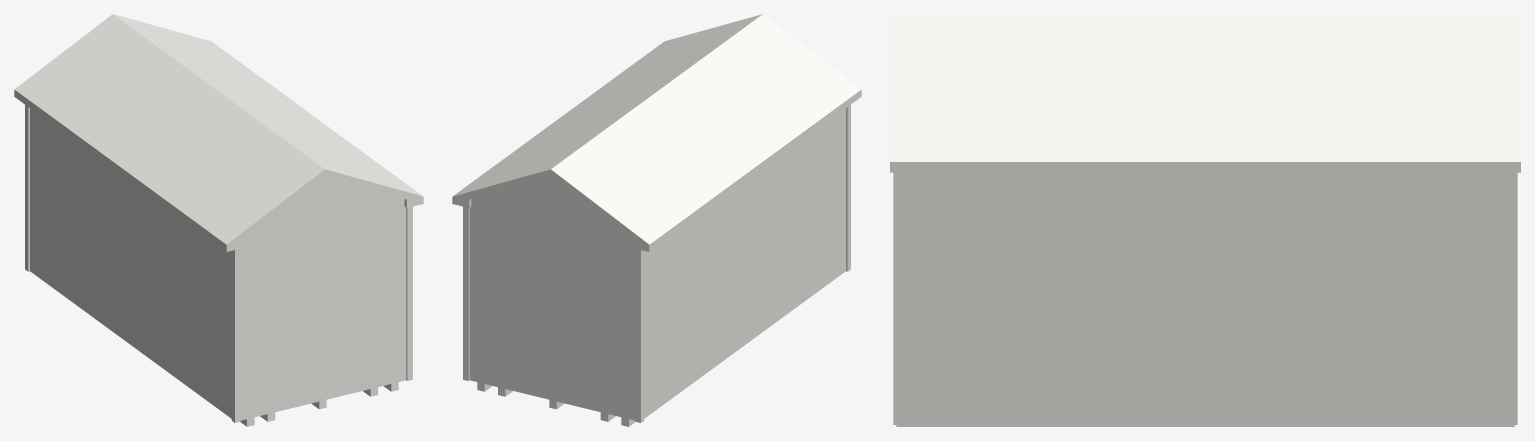
Rendered from 8 wide A-frame_7ft_8x16.obj.
3 renders of one model, left to right at view 1: azimuth 30°, elevation 25°; view 2: azimuth 150°, elevation 25°; view 3: azimuth 270°, elevation 25°, orthographic. The views are drawn at different scales.
Visible parts, largest first — view 1: Shed, Roof, Trim, Sides, Floor; view 2: Shed, Roof, Trim, Sides, Floor; view 3: Shed, Roof, Sides, Trim, Floor.
Part boxes in pixels (bbox=[...]): Shed: bbox=[30, 108, 406, 420]; Roof: bbox=[14, 14, 422, 244]; Trim: bbox=[25, 105, 412, 422]; Sides: bbox=[14, 89, 423, 251]; Floor: bbox=[240, 382, 398, 426]; Shed: bbox=[469, 108, 845, 420]; Roof: bbox=[453, 14, 861, 244]; Trim: bbox=[463, 105, 850, 422]; Sides: bbox=[452, 89, 861, 251]; Floor: bbox=[477, 382, 635, 426]; Shed: bbox=[903, 172, 1507, 423]; Roof: bbox=[890, 14, 1520, 161]; Sides: bbox=[890, 162, 1520, 172]; Trim: bbox=[893, 172, 1517, 424]; Floor: bbox=[896, 423, 1514, 426].
Size of the model in its own units: 2.67 by 3.12 by 4.98.
